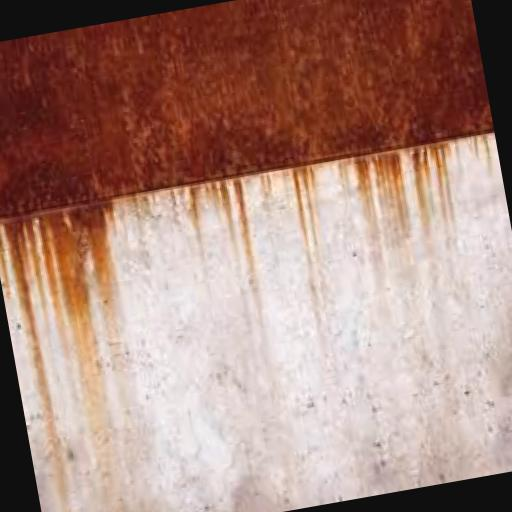segmentation: (43, 213, 121, 506), (86, 229, 120, 362)
